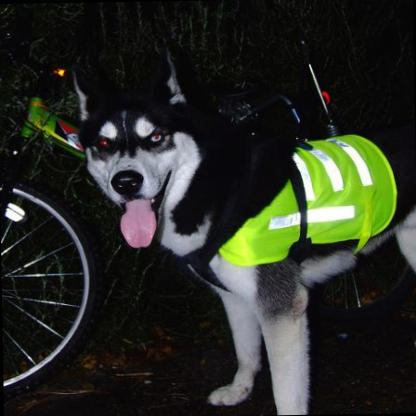Siberian_husky: (64, 44, 416, 416)
